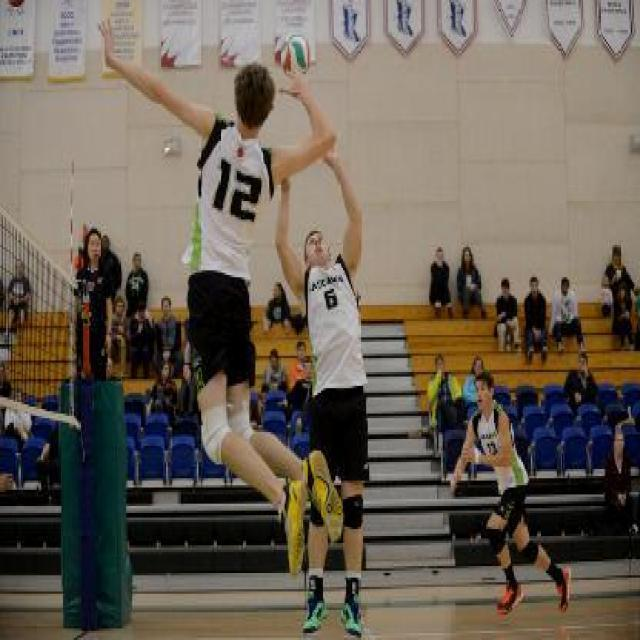volleyball: (274, 31, 316, 82)
